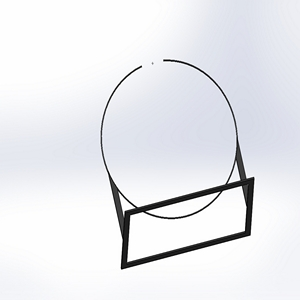circle: (98, 56, 256, 269)
